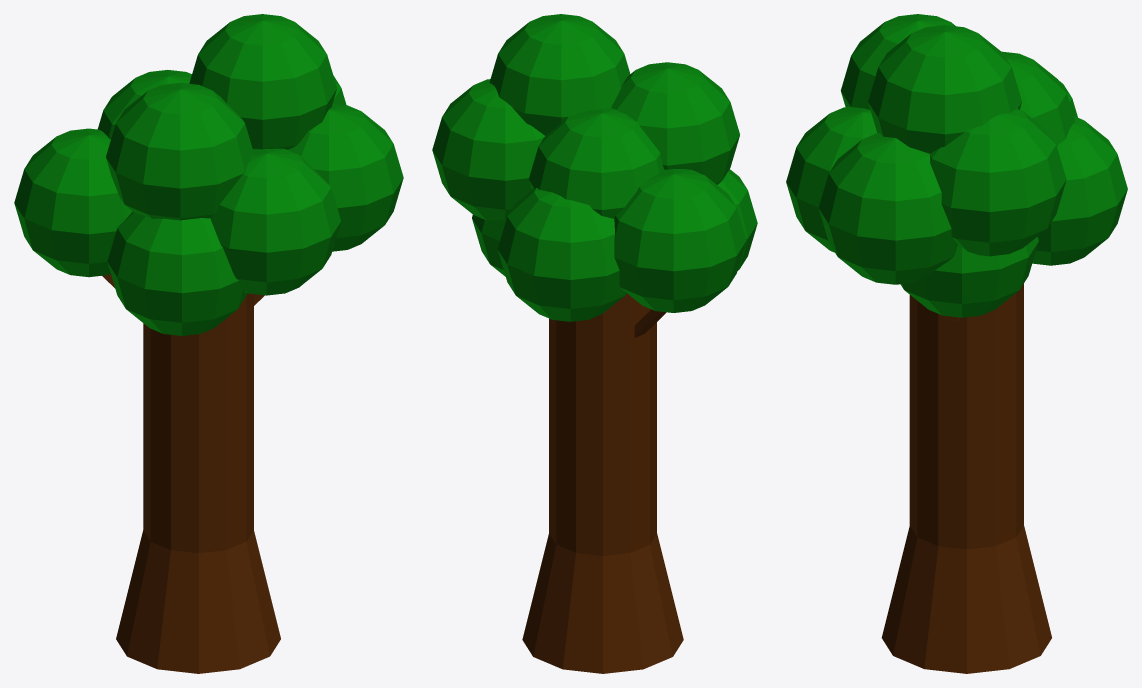
File: Tree 3.fbx
3 views of the same model, side by side, from view 1: azimuth 30°, elevation 25°; view 2: azimuth 150°, elevation 25°; view 3: azimuth 270°, elevation 25° (orthographic). The views are drawn at different scales.
Parts seen in each view (by area): view 1: Cylinder, Cylinder.003, Cylinder.005, Cylinder.006, Cylinder.008, Cylinder.004, Cylinder.007, Cylinder.001; view 2: Cylinder, Cylinder.004, Cylinder.009, Cylinder.006, Cylinder.010, Cylinder.003, Cylinder.001, Cylinder.008, Cylinder.002; view 3: Cylinder, Cylinder.007, Cylinder.010, Cylinder.006, Cylinder.009, Cylinder.002, Cylinder.005, Cylinder.003, Cylinder.001.
Part boxes in pixels (box(x1,y1,x2,y2)): Cylinder: box(102, 274, 280, 673); Cylinder.003: box(106, 82, 253, 220); Cylinder.005: box(210, 148, 340, 295); Cylinder.006: box(189, 14, 337, 149); Cylinder.008: box(107, 211, 247, 335); Cylinder.004: box(14, 128, 132, 277); Cylinder.007: box(288, 104, 403, 251); Cylinder.001: box(97, 70, 191, 139); Cylinder: box(522, 293, 683, 673); Cylinder.004: box(614, 169, 746, 312); Cylinder.009: box(497, 187, 626, 321); Cylinder.006: box(489, 14, 630, 135); Cylinder.010: box(432, 79, 544, 220); Cylinder.003: box(611, 62, 739, 184); Cylinder.001: box(528, 108, 664, 218); Cylinder.008: box(717, 169, 757, 270); Cylinder.002: box(472, 215, 506, 276); Cylinder: box(881, 284, 1051, 673); Cylinder.007: box(818, 133, 957, 284); Cylinder.010: box(930, 108, 1066, 256); Cylinder.006: box(868, 25, 1021, 153); Cylinder.009: box(1032, 116, 1127, 265); Cylinder.002: box(900, 237, 1038, 317); Cylinder.005: box(786, 106, 876, 252); Cylinder.003: box(840, 14, 955, 109); Cylinder.001: box(1002, 51, 1075, 146).
Bounding box in the file's own units: 303 × 562 × 275.
